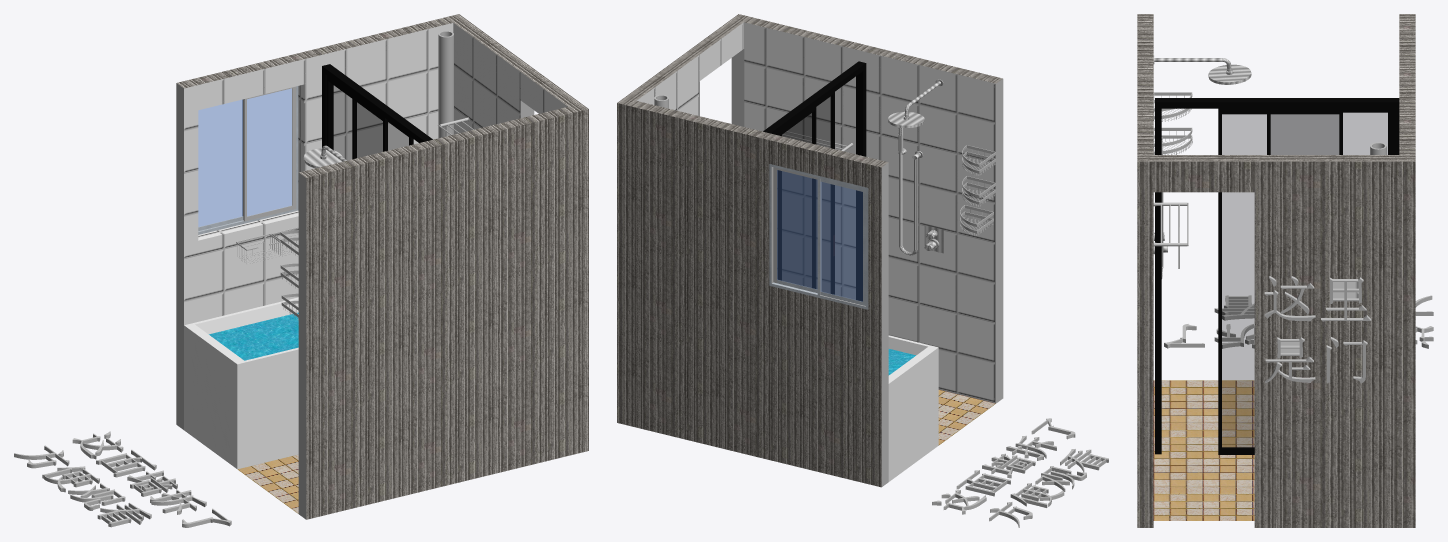
File: qiqi.gltf
3 views of the same model, side by side, from view 1: azimuth 30°, elevation 25°; view 2: azimuth 150°, elevation 25°; view 3: azimuth 270°, elevation 25° (orthographic). The views are drawn at different scales.
Parts seen in each view (by area): view 1: root; view 2: root; view 3: root.
Boxes of the visible parts, x1,y1,x2,y2 form: root: (14, 14, 588, 527); root: (617, 14, 1108, 527); root: (1137, 14, 1433, 527).
Size of the model in its own units: 3.24 by 2.4 by 1.76.
Materials: 15 (6 with a texture image).
